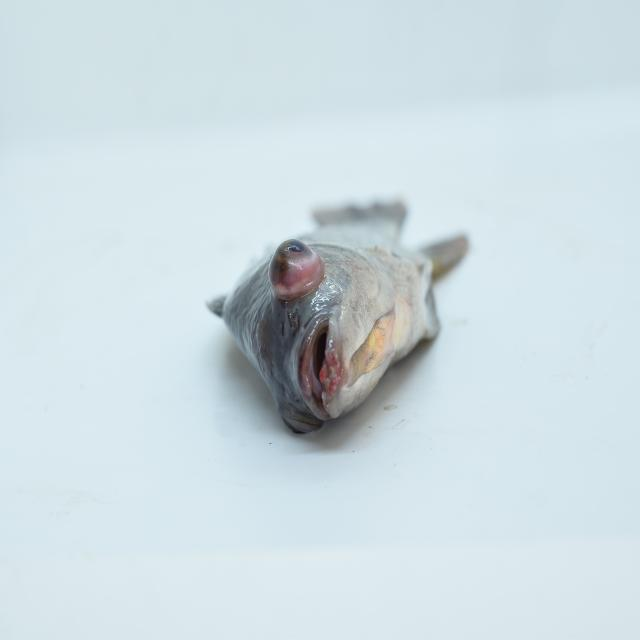Columnaris Disease: (157, 72, 481, 490)
